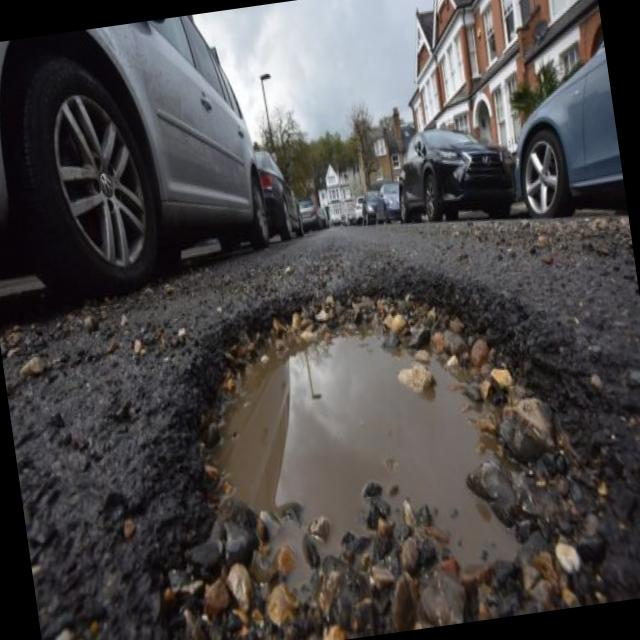Potholes: (114, 225, 640, 640)
